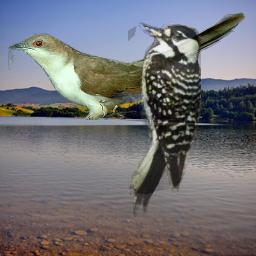Cuckoo: (8, 11, 245, 120)
Woodpecker: (128, 21, 201, 217)
